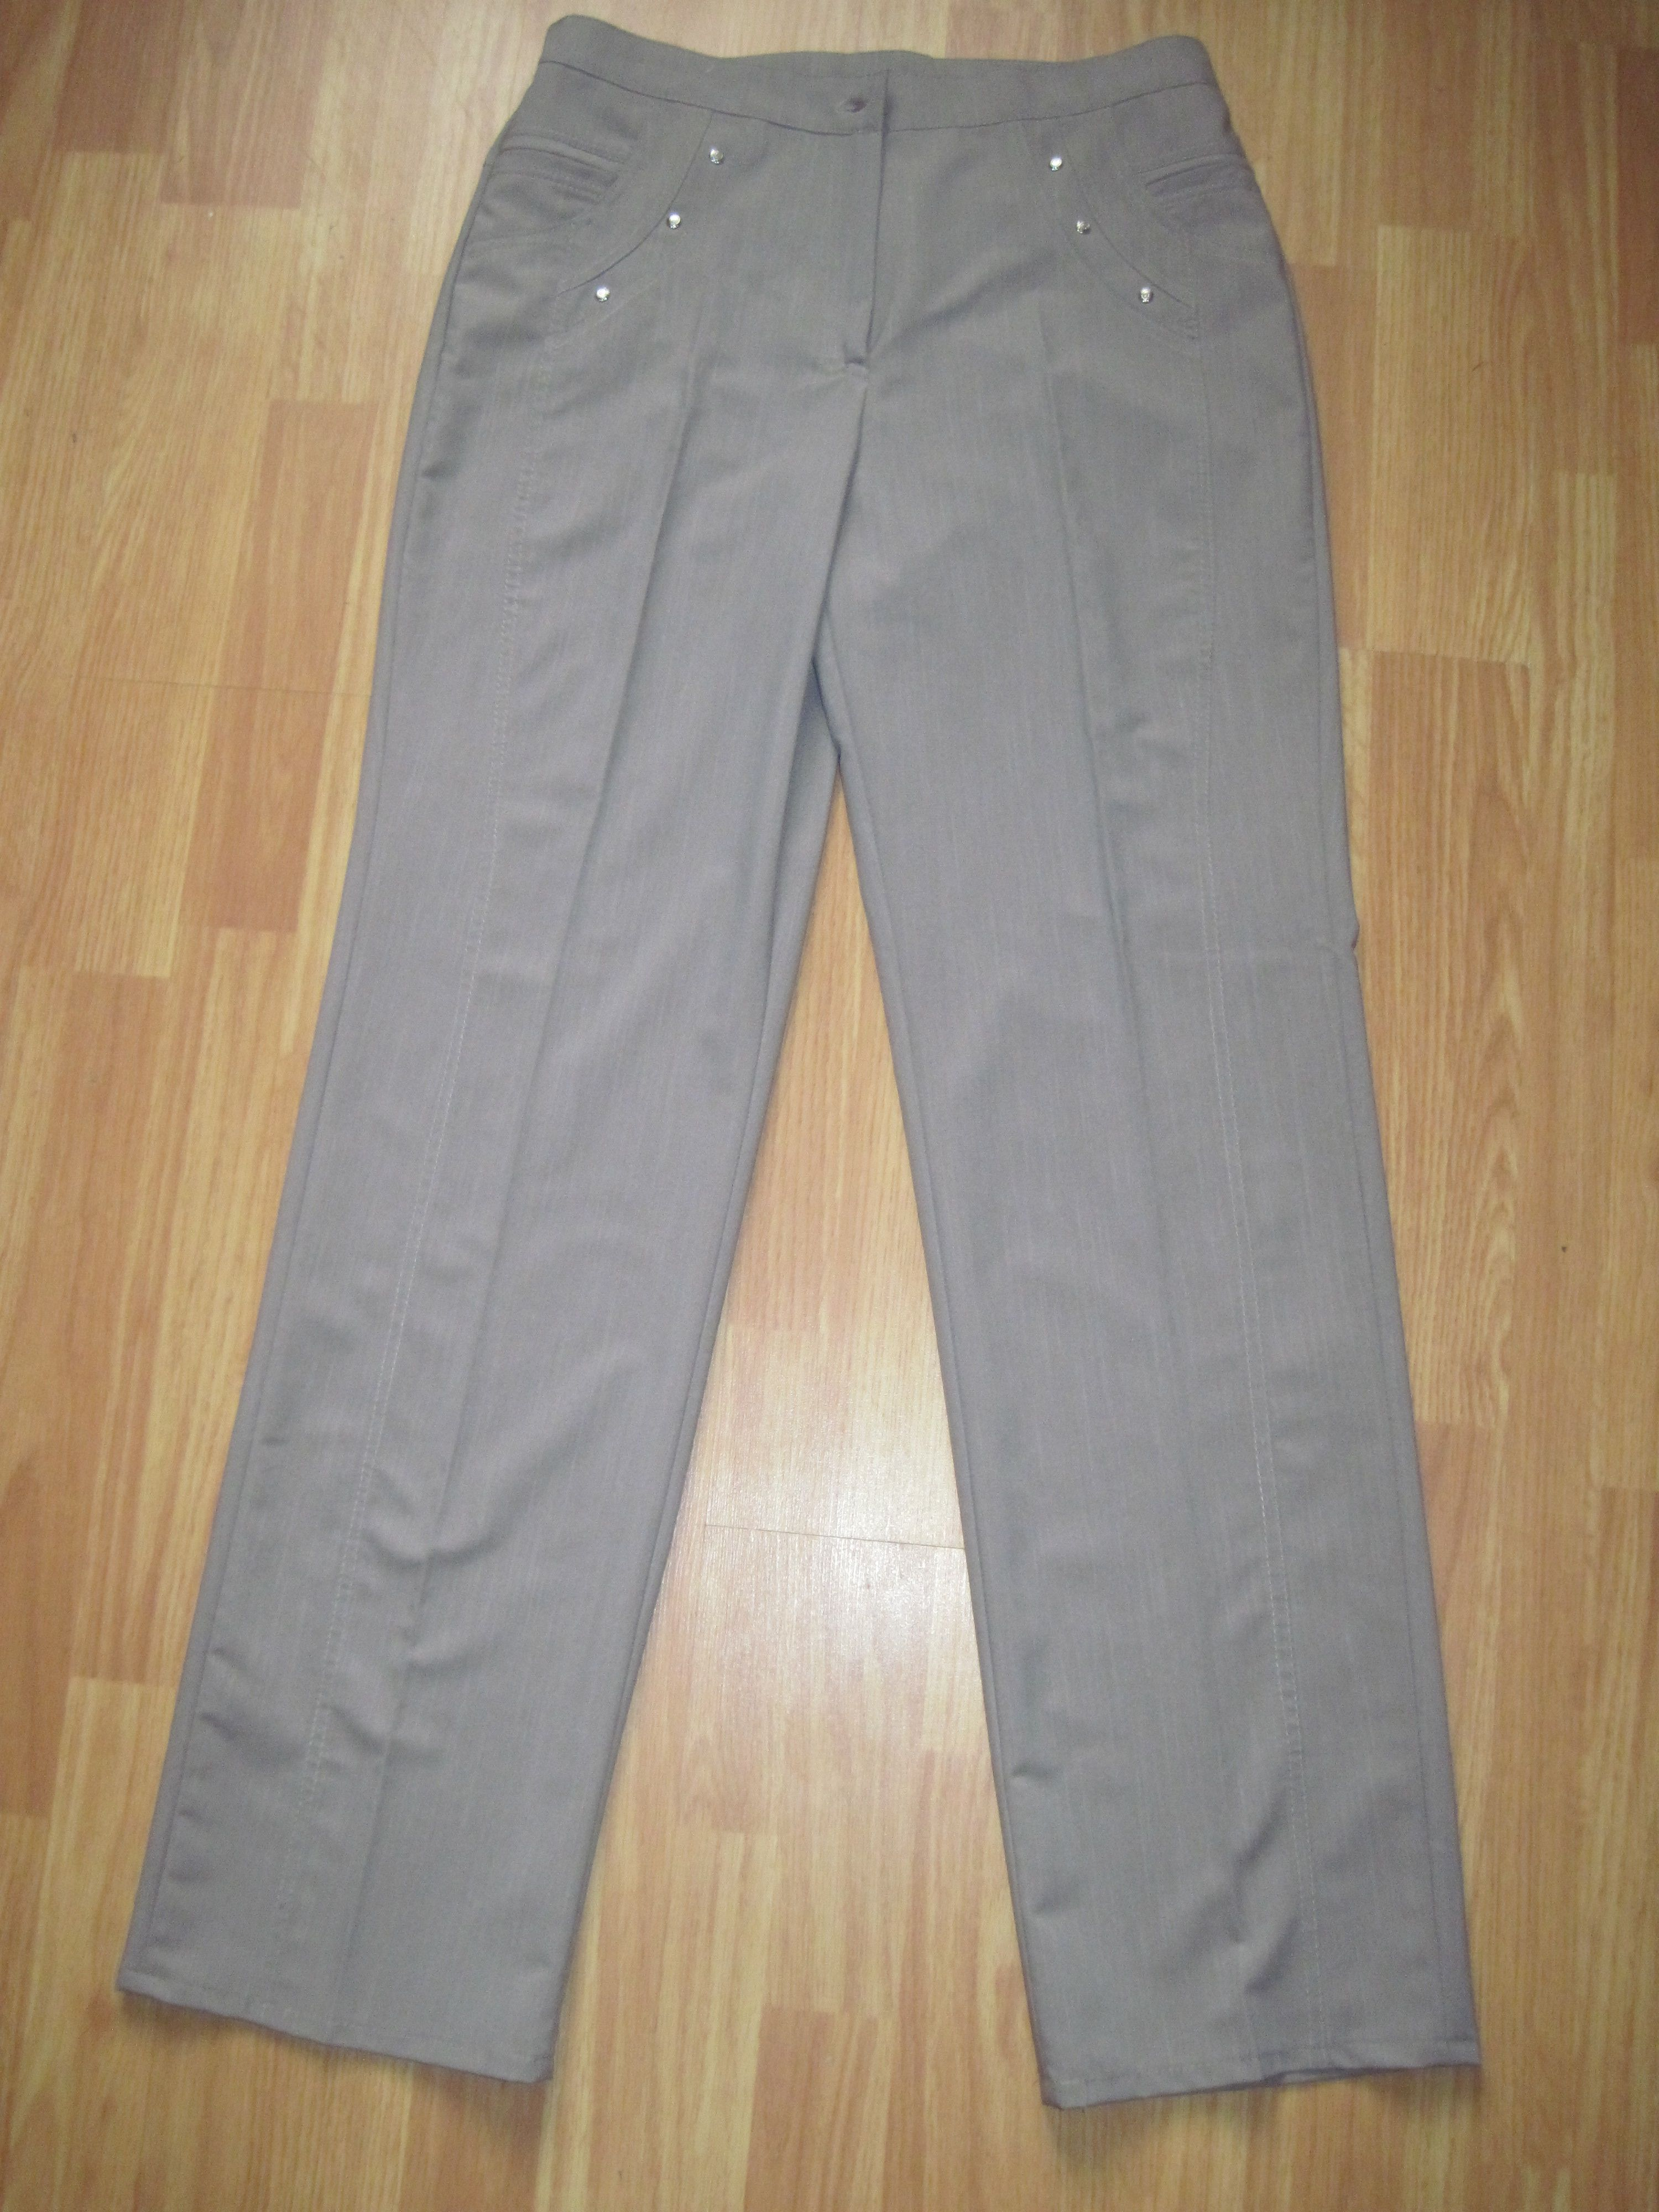clothes: (96, 17, 1504, 2114)
